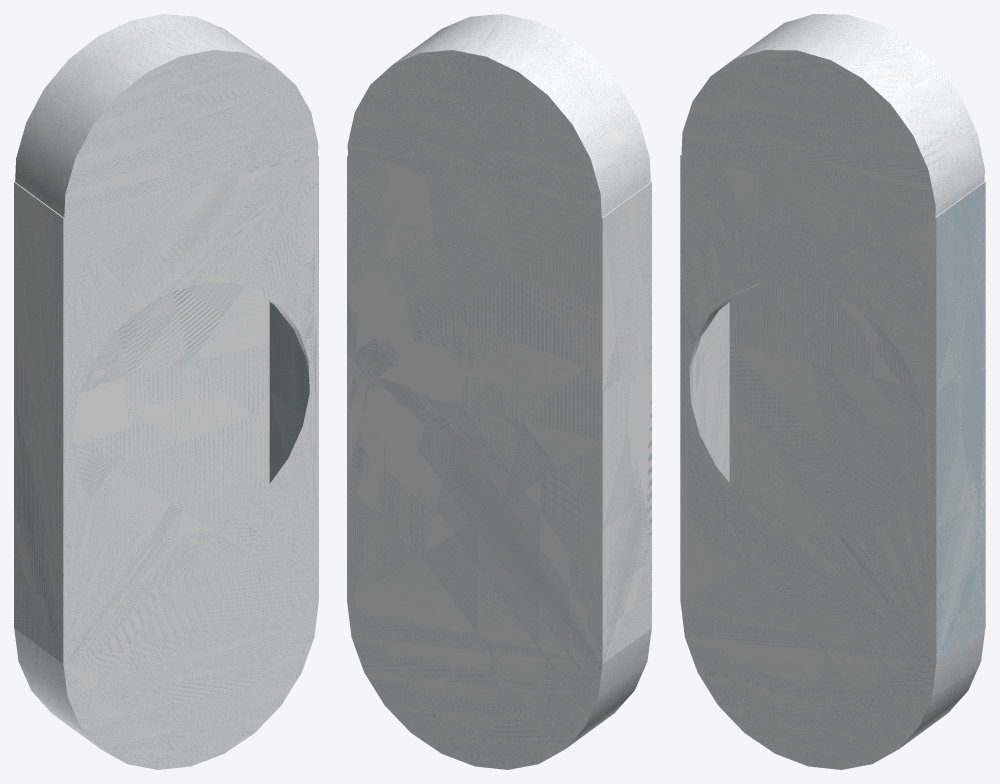
The model's file is 9969534-lock.dae.
3 renders of one model, left to right at view 1: azimuth 30°, elevation 25°; view 2: azimuth 150°, elevation 25°; view 3: azimuth 330°, elevation 25°, orthographic.
Parts seen in each view (by area): view 1: SketchUp.192, SketchUp.191; view 2: SketchUp.192; view 3: SketchUp.192, SketchUp.191.
Boxes of the visible parts, left/top/right/bottom form: SketchUp.192: left=14, top=14, right=318, bottom=769; SketchUp.191: left=269, top=302, right=309, bottom=483; SketchUp.192: left=347, top=14, right=651, bottom=769; SketchUp.192: left=680, top=14, right=985, bottom=769; SketchUp.191: left=936, top=182, right=985, bottom=663.
Bounding box in the file's own units: 0.03 × 0.01 × 0.0799.
